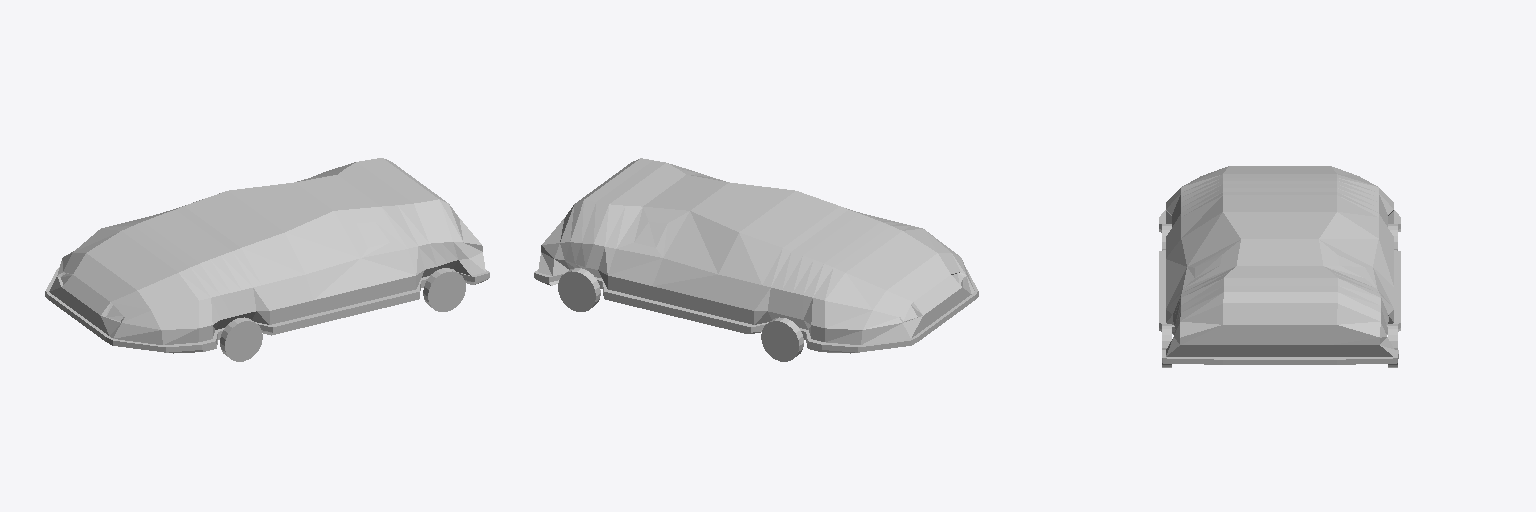
The model's file is yuwei_car.obj.
The picture shows the model from 3 angles: view 1: azimuth 30°, elevation 25°; view 2: azimuth 150°, elevation 25°; view 3: azimuth 270°, elevation 25°; orthographic projection.
Parts seen in each view (by area): view 1: car, car wheel4, car wheel2; view 2: car, car wheel3, car wheel1; view 3: car.
Part boxes in pixels (left/top/right/bottom): car: left=45, top=158, right=489, bottom=353; car wheel4: left=220, top=317, right=262, bottom=361; car wheel2: left=423, top=268, right=465, bottom=311; car: left=534, top=158, right=978, bottom=353; car wheel3: left=761, top=317, right=803, bottom=361; car wheel1: left=558, top=268, right=600, bottom=311; car: left=1159, top=166, right=1400, bottom=364.
Bounding box in the file's own units: 8.87 × 2.14 × 5.2.